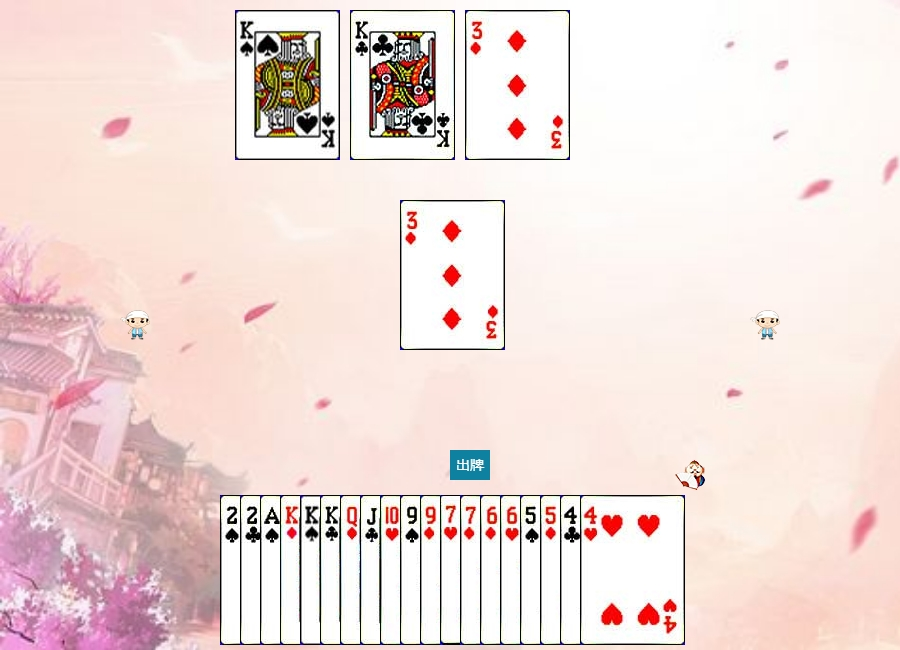10~3: (380, 495, 485, 645)
11~2: (360, 495, 465, 645)
12~1: (340, 495, 445, 645)
13~1: (280, 495, 385, 645)
13~2: (350, 10, 455, 160), (320, 495, 425, 645)
13~4: (235, 10, 340, 160), (300, 495, 405, 645)
14~4: (260, 495, 365, 645)
15~2: (240, 495, 345, 645)
15~4: (220, 495, 325, 645)
3~1: (465, 10, 570, 160), (400, 200, 505, 350)
4~2: (560, 495, 665, 645)
4~3: (580, 495, 685, 645)
5~1: (540, 495, 645, 645)
5~4: (520, 495, 625, 645)
6~1: (480, 495, 585, 645)
6~3: (500, 495, 605, 645)
7~1: (460, 495, 565, 645)
7~3: (440, 495, 545, 645)
9~1: (420, 495, 525, 645)
9~4: (400, 495, 505, 645)
